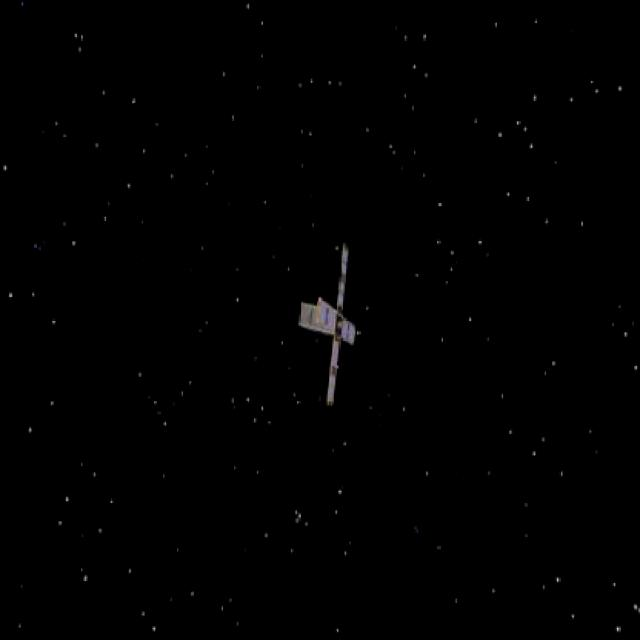medium_debris: (292, 234, 368, 413)
